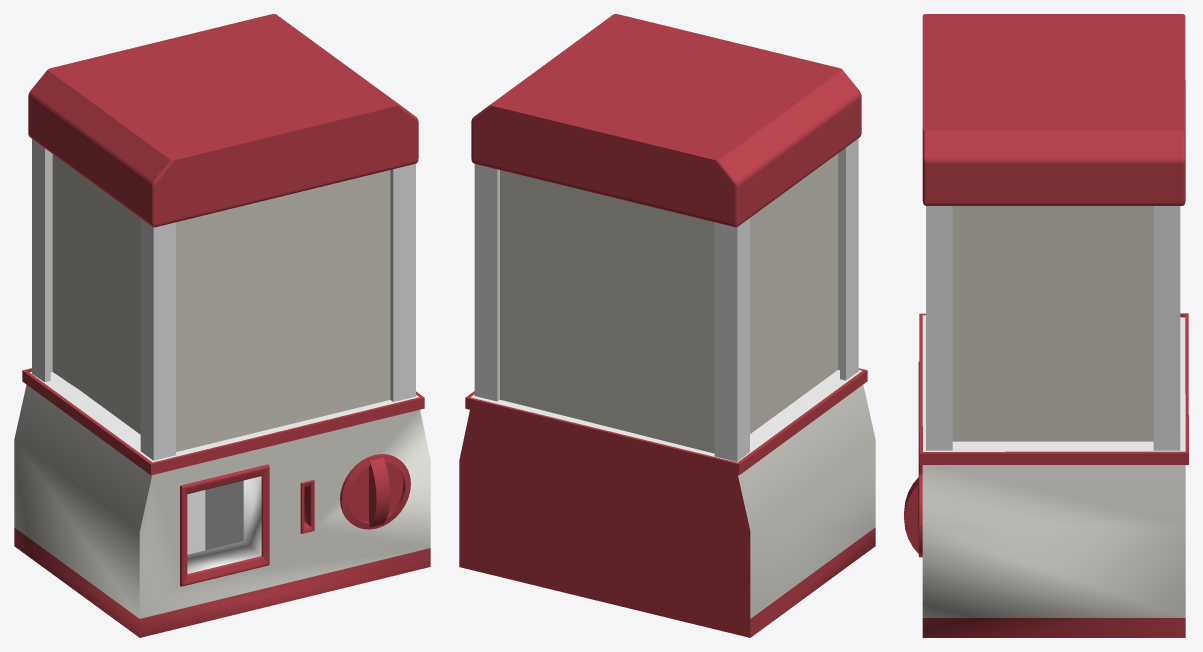
File: gatcha_trim.fbx
The picture shows the model from 3 angles, left to right: view 1: azimuth 30°, elevation 25°; view 2: azimuth 150°, elevation 25°; view 3: azimuth 270°, elevation 25°; orthographic projection. The views are drawn at different scales.
Visible parts, largest first — view 1: 立方体.012, 立方体.079, 立方体.080, 立方体.091, 立方体.088, 立方体.087, 立方体.090, lever, 立方体.081, 立方体.001; view 2: 立方体.079, 立方体.012, 立方体.080, 立方体.090, 立方体.089, 立方体.088, 立方体.091; view 3: 立方体.080, 立方体.079, 立方体.012, 立方体.089, 立方体.087, 立方体.091, lever.
Boxes of the visible parts, bbox=[...] form: 立方体.012: bbox=[52, 154, 390, 451]; 立方体.079: bbox=[14, 368, 430, 637]; 立方体.080: bbox=[28, 14, 418, 227]; 立方体.091: bbox=[30, 371, 419, 573]; 立方体.088: bbox=[140, 218, 175, 460]; 立方体.087: bbox=[390, 163, 415, 401]; 立方体.090: bbox=[32, 139, 52, 382]; lever: bbox=[340, 454, 410, 529]; 立方体.081: bbox=[180, 464, 269, 586]; 立方体.001: bbox=[300, 479, 314, 533]; 立方体.079: bbox=[459, 368, 875, 637]; 立方体.012: bbox=[500, 153, 837, 453]; 立方体.080: bbox=[471, 14, 861, 227]; 立方体.090: bbox=[714, 218, 749, 461]; 立方体.089: bbox=[474, 164, 499, 401]; 立方体.088: bbox=[838, 138, 858, 380]; 立方体.091: bbox=[470, 370, 862, 462]; 立方体.080: bbox=[922, 14, 1185, 205]; 立方体.079: bbox=[919, 313, 1188, 637]; 立方体.012: bbox=[952, 206, 1153, 441]; 立方体.089: bbox=[1153, 206, 1180, 450]; 立方体.087: bbox=[926, 206, 952, 450]; 立方体.091: bbox=[922, 315, 1185, 451]; lever: bbox=[904, 473, 922, 557].
Size of the model in its own units: 150 by 232 by 122.
